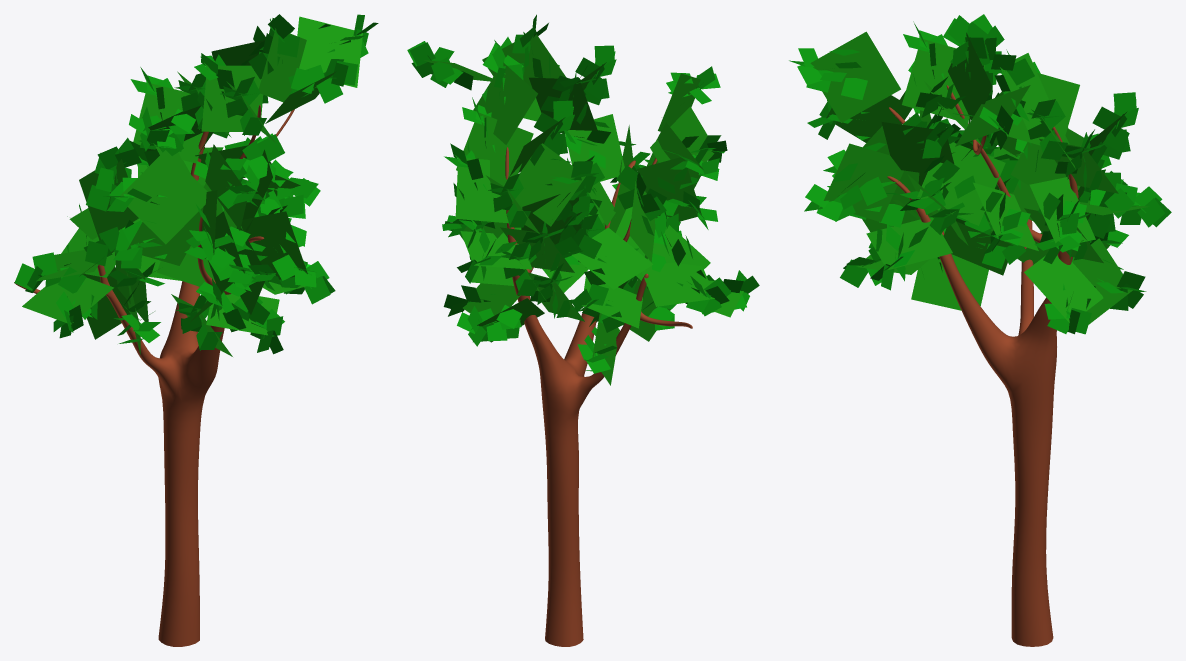
File: arbolarreglado.obj
3 views of the same model, side by side, from view 1: azimuth 30°, elevation 25°; view 2: azimuth 150°, elevation 25°; view 3: azimuth 270°, elevation 25° (orthographic). The views are drawn at different scales.
Parts seen in each view (by area): view 1: Tree_Body_Mesh, Brach007_Mesh.111, Brach036_Mesh.441, Brach001_Mesh.011, Brach034_Mesh.421, Brach029_Mesh.271, Brach037_Mesh.321, Brach006_Mesh.061, Brach016_Mesh.191, Brach031_Mesh.291, Brach005_Mesh.051, Brach025_Mesh.361 (+11 smaller); view 2: Tree_Body_Mesh, Brach018_Mesh.091, Brach020_Mesh.251, Brach032_Mesh.301, Brach019_Mesh.101, Brach030_Mesh.281, Brach015_Mesh.181, Brach009_Mesh.221, Brach006_Mesh.061, Brach034_Mesh.421, Brach024_Mesh.241, Brach039_Mesh.341 (+16 smaller); view 3: Tree_Body_Mesh, Brach005_Mesh.051, Brach001_Mesh.011, Brach045_Mesh.001, Brach022_Mesh.081, Brach040_Mesh.141, Brach033_Mesh.311, Brach042_Mesh.451, Brach009_Mesh.221, Brach023_Mesh.231, Brach037_Mesh.321, Brach017_Mesh.201 (+11 smaller).
Part boxes in pixels (box(x1,y1,x2,y2)): Tree_Body_Mesh: box(14, 105, 294, 646); Brach007_Mesh.111: box(118, 150, 207, 244); Brach036_Mesh.441: box(297, 16, 362, 87); Brach001_Mesh.011: box(241, 211, 307, 281); Brach034_Mesh.421: box(201, 65, 263, 131); Brach029_Mesh.271: box(22, 277, 113, 324); Brach037_Mesh.321: box(259, 28, 306, 102); Brach006_Mesh.061: box(127, 195, 203, 265); Brach016_Mesh.191: box(133, 83, 203, 163); Brach031_Mesh.291: box(79, 159, 138, 240); Brach005_Mesh.051: box(205, 144, 248, 230); Brach025_Mesh.361: box(83, 266, 130, 339); Tree_Body_Mesh: box(505, 147, 692, 646); Brach018_Mesh.091: box(515, 143, 585, 226); Brach020_Mesh.251: box(473, 62, 537, 144); Brach032_Mesh.301: box(569, 227, 652, 289); Brach019_Mesh.101: box(456, 112, 533, 185); Brach030_Mesh.281: box(642, 262, 714, 306); Brach015_Mesh.181: box(455, 157, 508, 223); Brach009_Mesh.221: box(564, 114, 624, 182); Brach006_Mesh.061: box(637, 157, 701, 221); Brach034_Mesh.421: box(529, 77, 597, 130); Brach024_Mesh.241: box(582, 276, 642, 328); Brach039_Mesh.341: box(460, 231, 532, 269); Tree_Body_Mesh: box(887, 85, 1078, 646); Brach005_Mesh.051: box(810, 31, 900, 122); Brach001_Mesh.011: box(823, 143, 903, 221); Brach045_Mesh.001: box(917, 142, 1005, 225); Brach022_Mesh.081: box(1024, 255, 1103, 322); Brach040_Mesh.141: box(911, 254, 988, 310); Brach033_Mesh.311: box(902, 38, 984, 123); Brach042_Mesh.451: box(866, 217, 952, 269); Brach009_Mesh.221: box(881, 122, 954, 172); Brach023_Mesh.231: box(1072, 238, 1132, 324); Brach037_Mesh.321: box(948, 32, 992, 119); Brach017_Mesh.201: box(1006, 73, 1079, 145).
Size of the model in its own units: 27.02 by 45.91 by 24.35.
